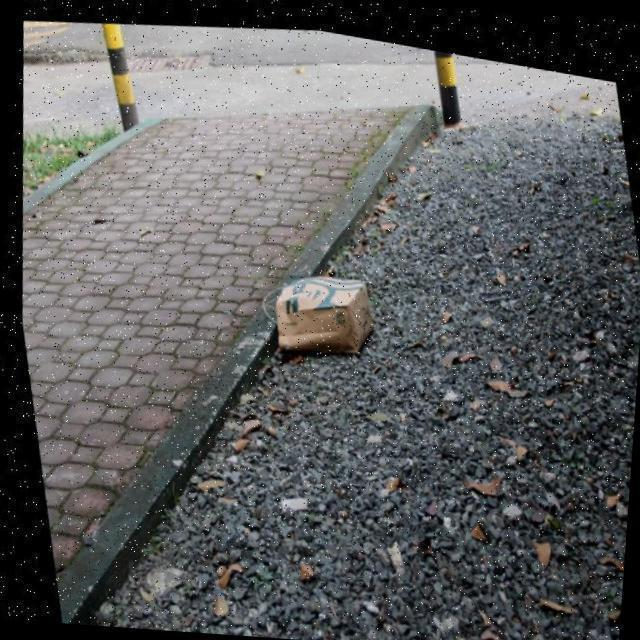Paper_Bag: (248, 253, 380, 361)
